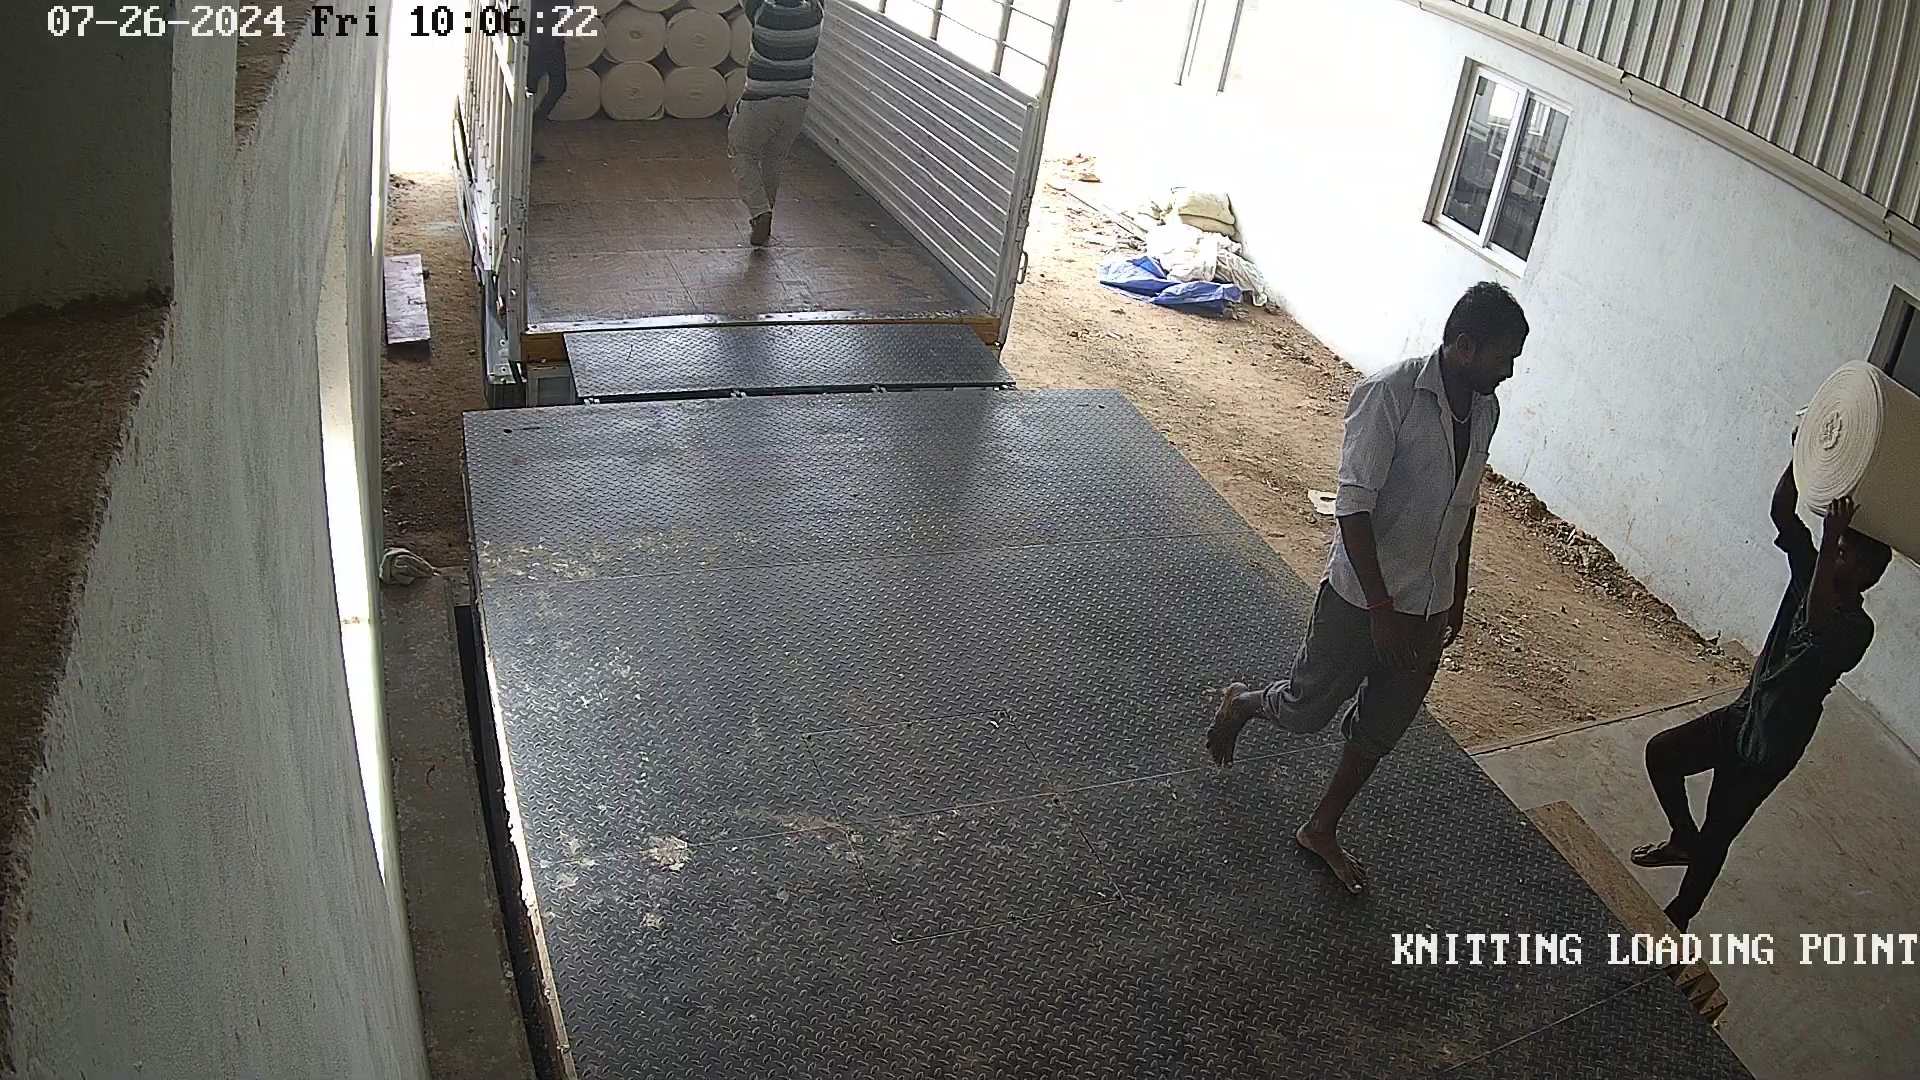bag: (1785, 357, 1920, 571)
